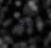four: (25, 20, 30, 27)
two: (19, 20, 24, 28)
